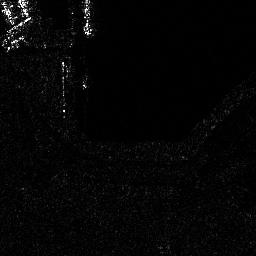ship: (79, 1, 94, 38)
